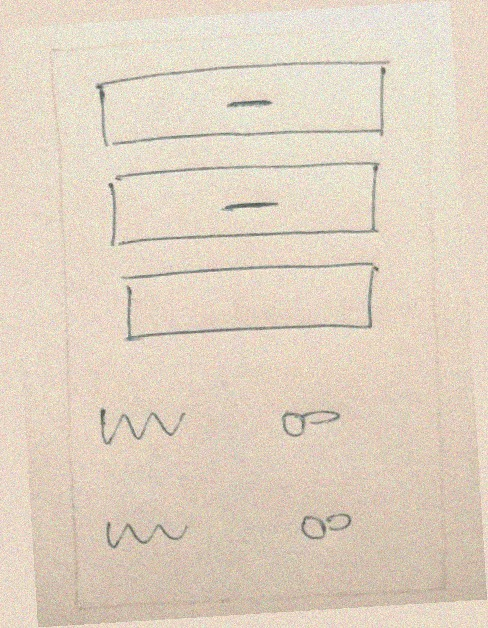button: (86, 48, 396, 160), (94, 150, 390, 264)
switch: (264, 391, 352, 449), (285, 495, 371, 553)
text: (87, 391, 193, 460), (93, 497, 197, 562)
text_input: (112, 251, 387, 353)
